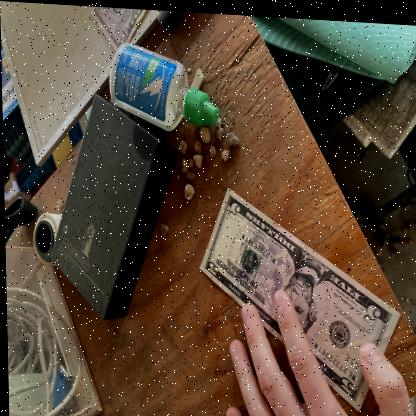five-front: (199, 184, 404, 409)
